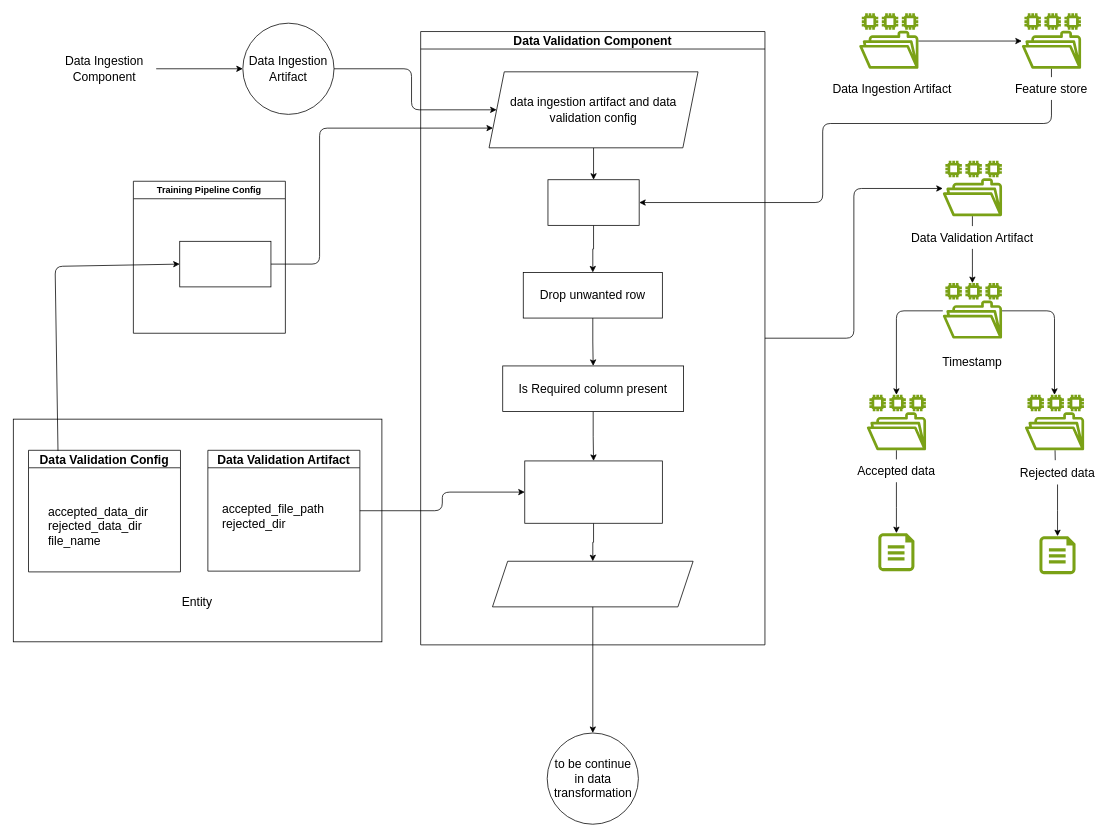
The diagram is 1113 pixels wide and 838 high, and some of its shapes have lost their labels. The shapes that lost their labels are listed below. From the top down, each one's centre as x and y in pixels, then its label:
the point at 593,202: Read Data
the point at 225,264: get data validation config
the point at 593,491: Prepare data validation Artifact
the point at 592,583: Return data validation artifact
